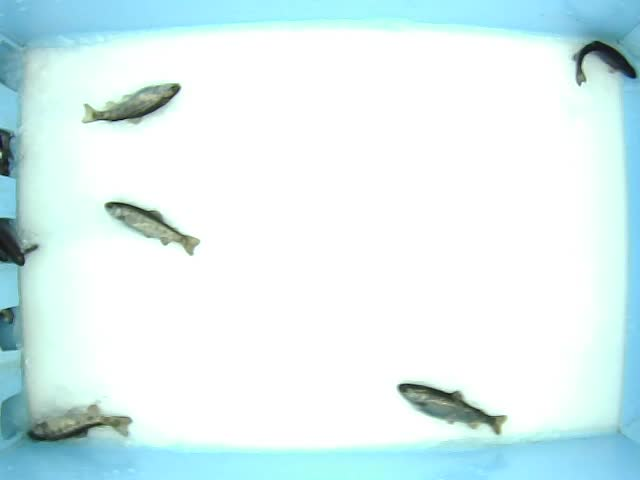fish: (396, 382, 509, 437), (103, 200, 201, 256), (80, 80, 182, 127), (24, 403, 134, 444), (569, 40, 638, 87)
